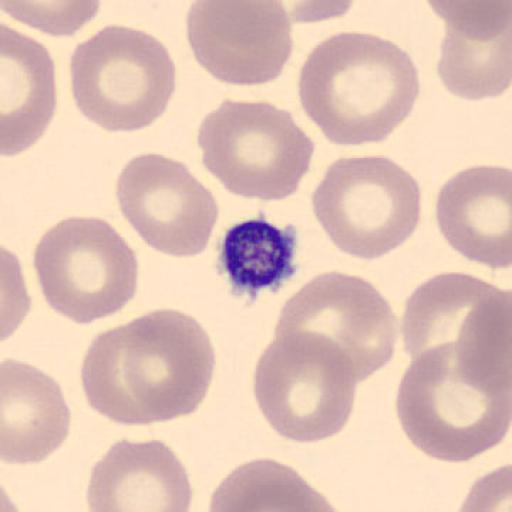Platelet: (212, 213, 300, 302)
RBC: (76, 308, 218, 427), (296, 28, 422, 148), (272, 269, 399, 385), (395, 339, 510, 465), (196, 98, 316, 204), (310, 153, 424, 262), (252, 328, 358, 445), (116, 306, 218, 426), (68, 23, 178, 134), (32, 214, 140, 326), (400, 269, 510, 378), (113, 151, 220, 259), (79, 313, 168, 427), (184, 0, 295, 87), (434, 162, 512, 271), (84, 436, 193, 512), (205, 457, 348, 512), (2, 357, 72, 467), (2, 24, 58, 158), (455, 286, 512, 399), (436, 21, 512, 102), (4, 0, 103, 38), (424, 0, 512, 41), (1, 244, 32, 344), (454, 462, 511, 512), (424, 1, 510, 22), (288, 0, 358, 24)
